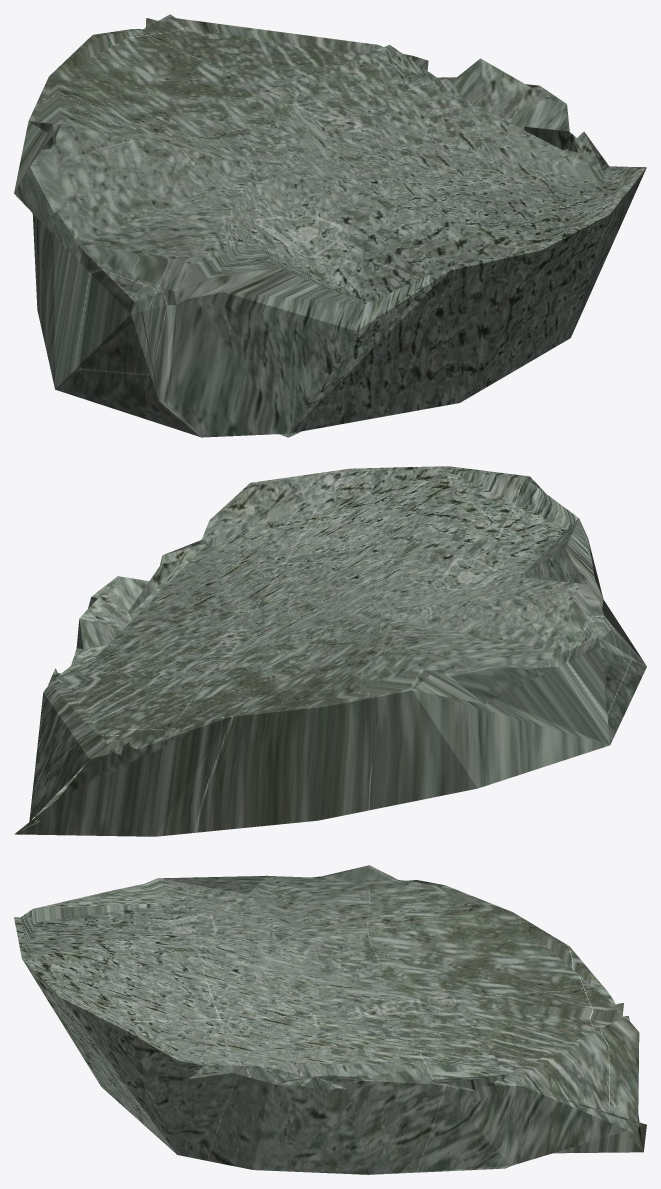
Rendered from pond.glb.
The picture shows the model from 3 angles, top to bottom: view 1: azimuth 30°, elevation 25°; view 2: azimuth 150°, elevation 25°; view 3: azimuth 270°, elevation 25°; orthographic projection. The views are drawn at different scales.
Visible parts, largest first — view 1: Icosphere; view 2: Icosphere; view 3: Icosphere.
Part boxes in pixels (x1,y1,x2,y2): Icosphere: (14,14,646,437); Icosphere: (14,466,646,836); Icosphere: (14,865,646,1174).
Bounding box in the file's own units: 1.1 × 0.4253 × 1.4.
1 material, 1 textured.
